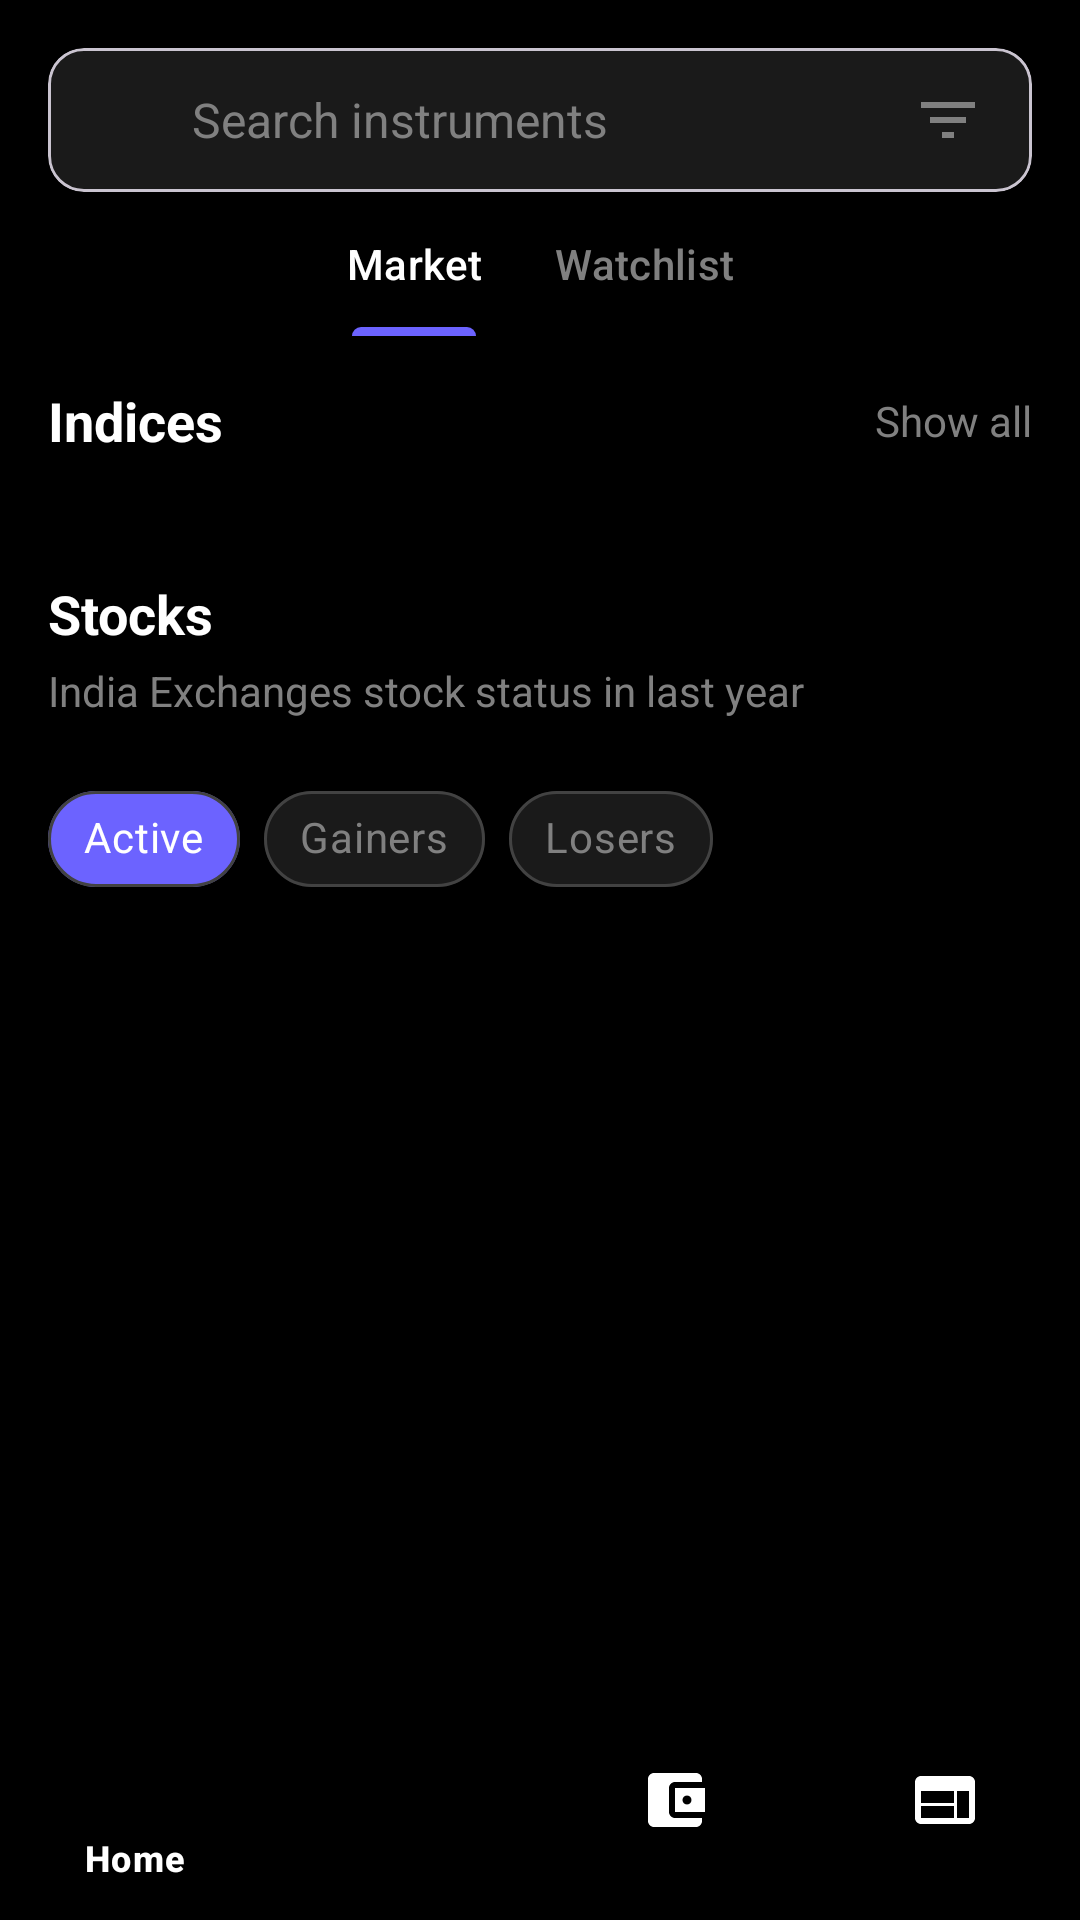

Where icons sit on this 1080×1920 app screen, as [x1=x1, y1=y1, x2=x2, y2=y2]:
filter: [x1=921, y1=102, x2=975, y2=138]
